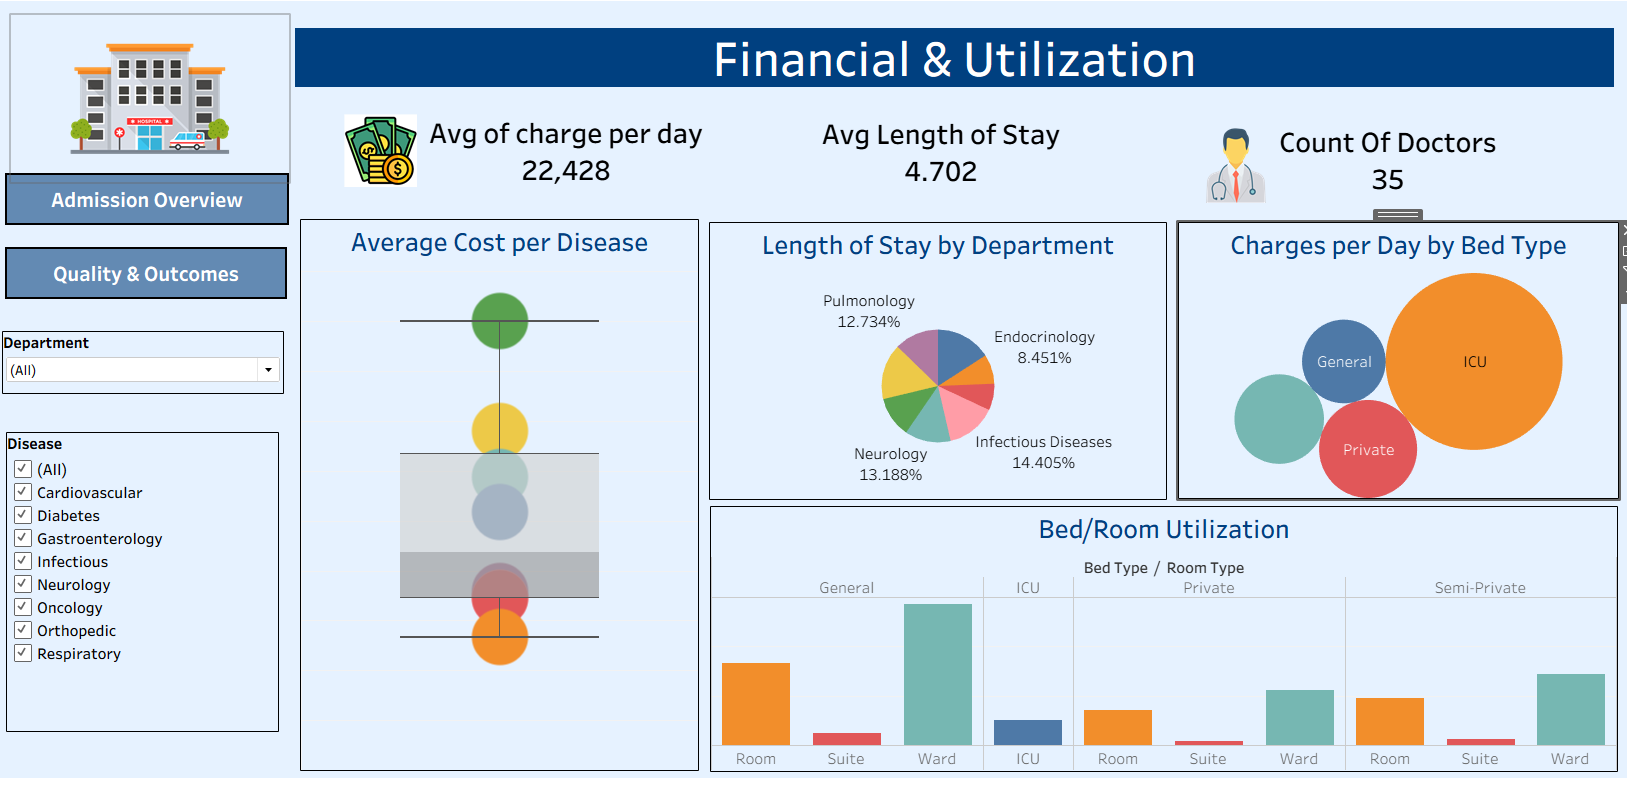

The page's visual inventory and layout, read from the dashboard file:
{"tool":"tableau","page":{"name":"Financial & Utilization","canvas":[1000,1000],"units":"permille","ordinal":1},"visuals":[{"type":"blank","box":[4.8,10,990.3,980]},{"type":"image","param":"Image/Hos.png","box":[17.5,32.5,167.8,208.5]},{"type":"text","box":[188.9,48.7,796,73.7]},{"type":"worksheet","title":"Avg charge per day KPI","mark":"Automatic","box":[210,99.9,284.2,203.5]},{"type":"worksheet","title":"Count Of Doctors KPI","mark":"Automatic","box":[724.8,117.4,247.4,191]},{"type":"worksheet","title":"Avg length of stay KPI","mark":"Automatic","box":[458.1,118.6,241.4,169.8]},{"type":"image","param":"Image/images.png","box":[217.3,156.1,47.1,91.1]},{"type":"image","param":"Image/Doctor.png","box":[732.6,173.5,47.7,93.6]},{"type":"dashboard-object","box":[13.9,229.7,171.4,64.9]},{"type":"worksheet","title":"Average Cost per Disease","mark":"Circle","rows":["Calculation_1845631465313157123"],"box":[191.9,287.1,240.8,689.1]},{"type":"worksheet","title":"Length of Stay by Department","mark":"Pie","box":[438.7,290.9,276.4,347.1]},{"type":"worksheet","title":"Charges per Day by Bed Type","mark":"Circle","box":[721.8,290.9,266.1,345.8]},{"type":"dashboard-object","box":[13.9,322.1,170.2,64.9]},{"type":"filter","title":"Average Cost per Disease","param":"[federated.0m547v80owgjkv1568xne0q3zldo].[none:Department:nk]","box":[12.1,427,170.2,78.7]},{"type":"filter","title":"Average Cost per Disease","param":"[federated.0m547v80owgjkv1568xne0q3zldo].[none:Disease:nk]","box":[14.5,553.1,164.8,374.5]},{"type":"worksheet","title":"Bed/Room Utilization","mark":"Automatic","rows":["Calculation_1845631465311457280"],"cols":["BedType","RoomType"],"box":[439.4,645.4,548,332.1]}]}

Visuals, with their boxes on the dashboard's canvas, which has no fixed pixel size, in thousandths of its width and height (x1, y1, x2, y2). These are canvas units, not pixel positions in the 1627x789 screenshot, which may show the page scaled, cropped or inside an application window:
blank: <region>5, 10, 995, 990</region>
image: <region>18, 32, 185, 241</region>
text: <region>189, 49, 985, 122</region>
"Avg charge per day KPI" worksheet: <region>210, 100, 494, 303</region>
"Count Of Doctors KPI" worksheet: <region>725, 117, 972, 308</region>
"Avg length of stay KPI" worksheet: <region>458, 119, 700, 288</region>
image: <region>217, 156, 264, 247</region>
image: <region>733, 174, 780, 267</region>
dashboard-object: <region>14, 230, 185, 295</region>
"Average Cost per Disease" worksheet (Circle marks): <region>192, 287, 433, 976</region>
"Length of Stay by Department" worksheet (Pie marks): <region>439, 291, 715, 638</region>
"Charges per Day by Bed Type" worksheet (Circle marks): <region>722, 291, 988, 637</region>
dashboard-object: <region>14, 322, 184, 387</region>
"Average Cost per Disease" filter: <region>12, 427, 182, 506</region>
"Average Cost per Disease" filter: <region>14, 553, 179, 928</region>
"Bed/Room Utilization" worksheet: <region>439, 645, 987, 978</region>
